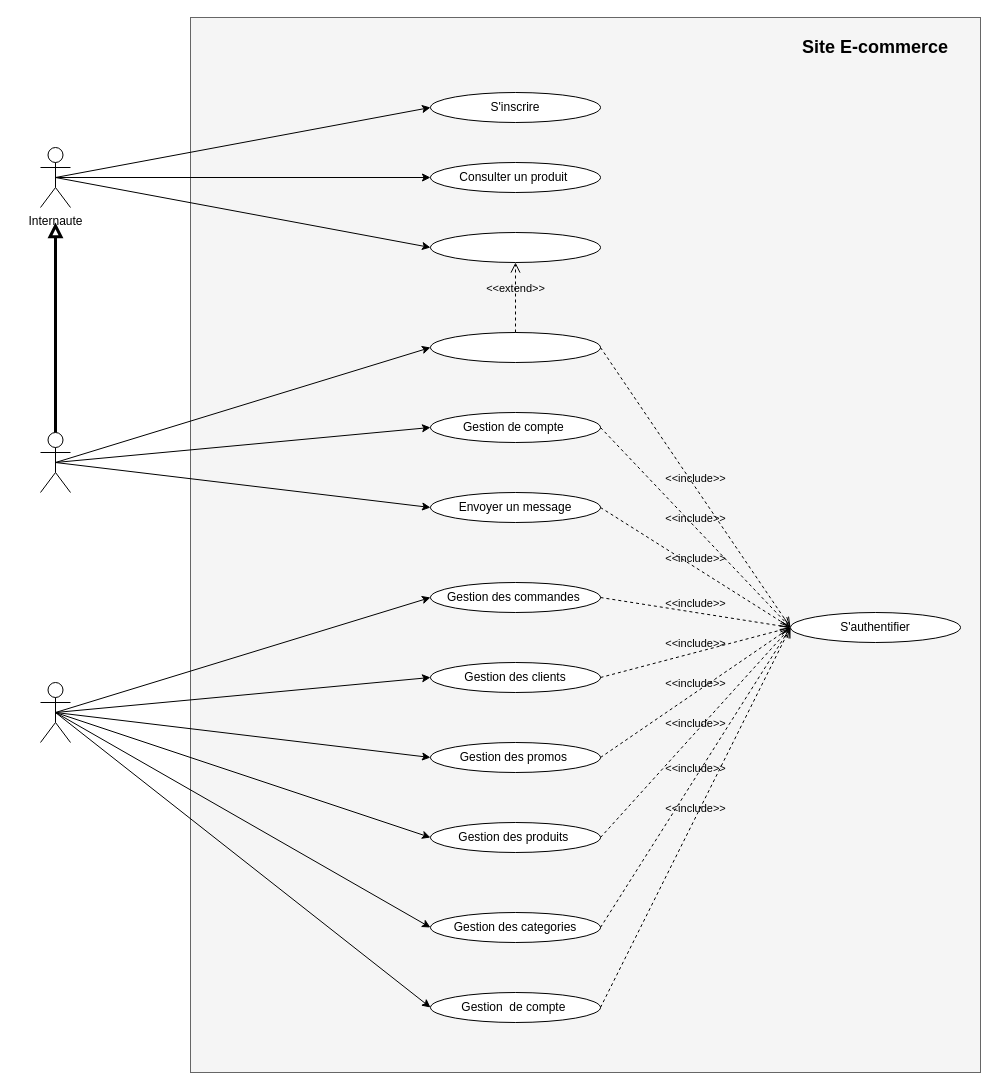
Some shapes in this 998 by 1090 pixel diagram are drawn without their labels. Here are the shapes that lost their labels. From the top down, the centre of each, then its label:
At pixel 515 247: "Gérer panier".
At pixel 515 347: "Passer une commande".
At pixel 55 462: "Client".
At pixel 55 712: "Administrateur".
